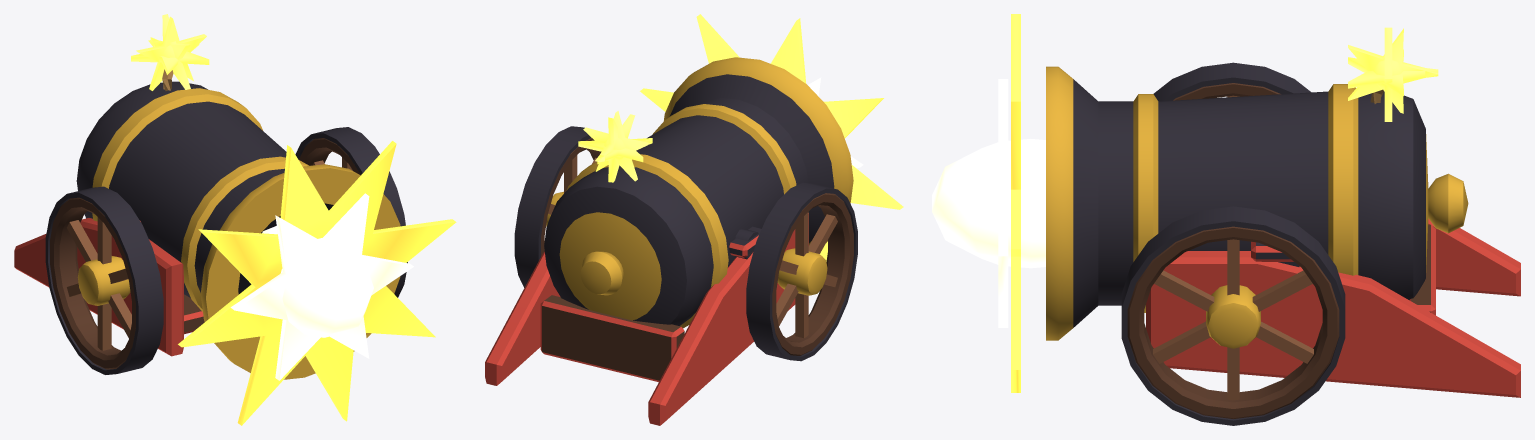
File: cannon_cannon.glb
The picture shows the model from 3 angles, left to right: view 1: azimuth 30°, elevation 25°; view 2: azimuth 150°, elevation 25°; view 3: azimuth 270°, elevation 25°; orthographic projection. The views are drawn at different scales.
Visible parts, largest first — view 1: EmitFlash, Barrel, Carriage, EmitFuse; view 2: Barrel, Carriage, EmitFlash, EmitFuse; view 3: Barrel, Carriage, EmitFlash, EmitFuse.
Part boxes in pixels (x1,y1,x2,y2): EmitFlash: (178,141,456,425); Barrel: (76,69,400,379); Carriage: (14,127,407,374); EmitFuse: (131,14,209,90); Barrel: (544,57,853,328); Carriage: (485,126,857,425); EmitFlash: (640,14,903,261); EmitFuse: (578,111,652,182); Barrel: (1046,66,1468,340); Carriage: (1121,62,1520,425); EmitFlash: (932,14,1045,392); EmitFuse: (1348,27,1438,121).
Bounding box in the file's own units: 1.56 × 1.56 × 2.36.
